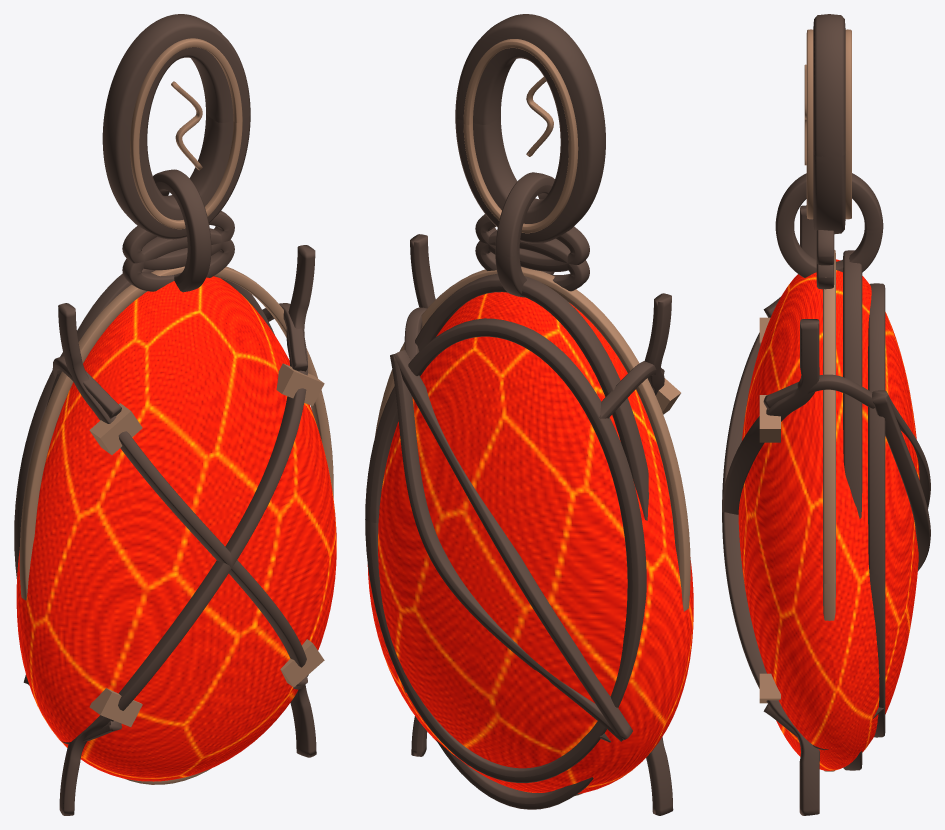
File: cinder_charm.glb
3 renders of one model, left to right at view 1: azimuth 30°, elevation 25°; view 2: azimuth 150°, elevation 25°; view 3: azimuth 270°, elevation 25°, orthographic. The views are drawn at different scales.
Parts seen in each view (by area): view 1: Cracked amber fire opal, Oxidised warm dark bronze, Burnished copper edges; view 2: Cracked amber fire opal, Oxidised warm dark bronze, Burnished copper edges; view 3: Cracked amber fire opal, Oxidised warm dark bronze, Burnished copper edges.
Part boxes in pixels (x1,y1,x2,y2): Cracked amber fire opal: (16,276,336,781); Oxidised warm dark bronze: (14,14,316,815); Burnished copper edges: (19,38,333,784); Cracked amber fire opal: (367,292,693,793); Oxidised warm dark bronze: (365,14,673,815); Burnished copper edges: (375,39,690,795); Cracked amber fire opal: (738,259,919,770); Oxidised warm dark bronze: (722,14,930,815); Burnished copper edges: (759,29,851,771).
Size of the model in its own units: 0.018 by 0.0424 by 0.0108.
3 materials, 1 textured.
